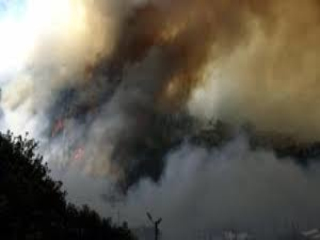smoke: (48, 6, 229, 214)
